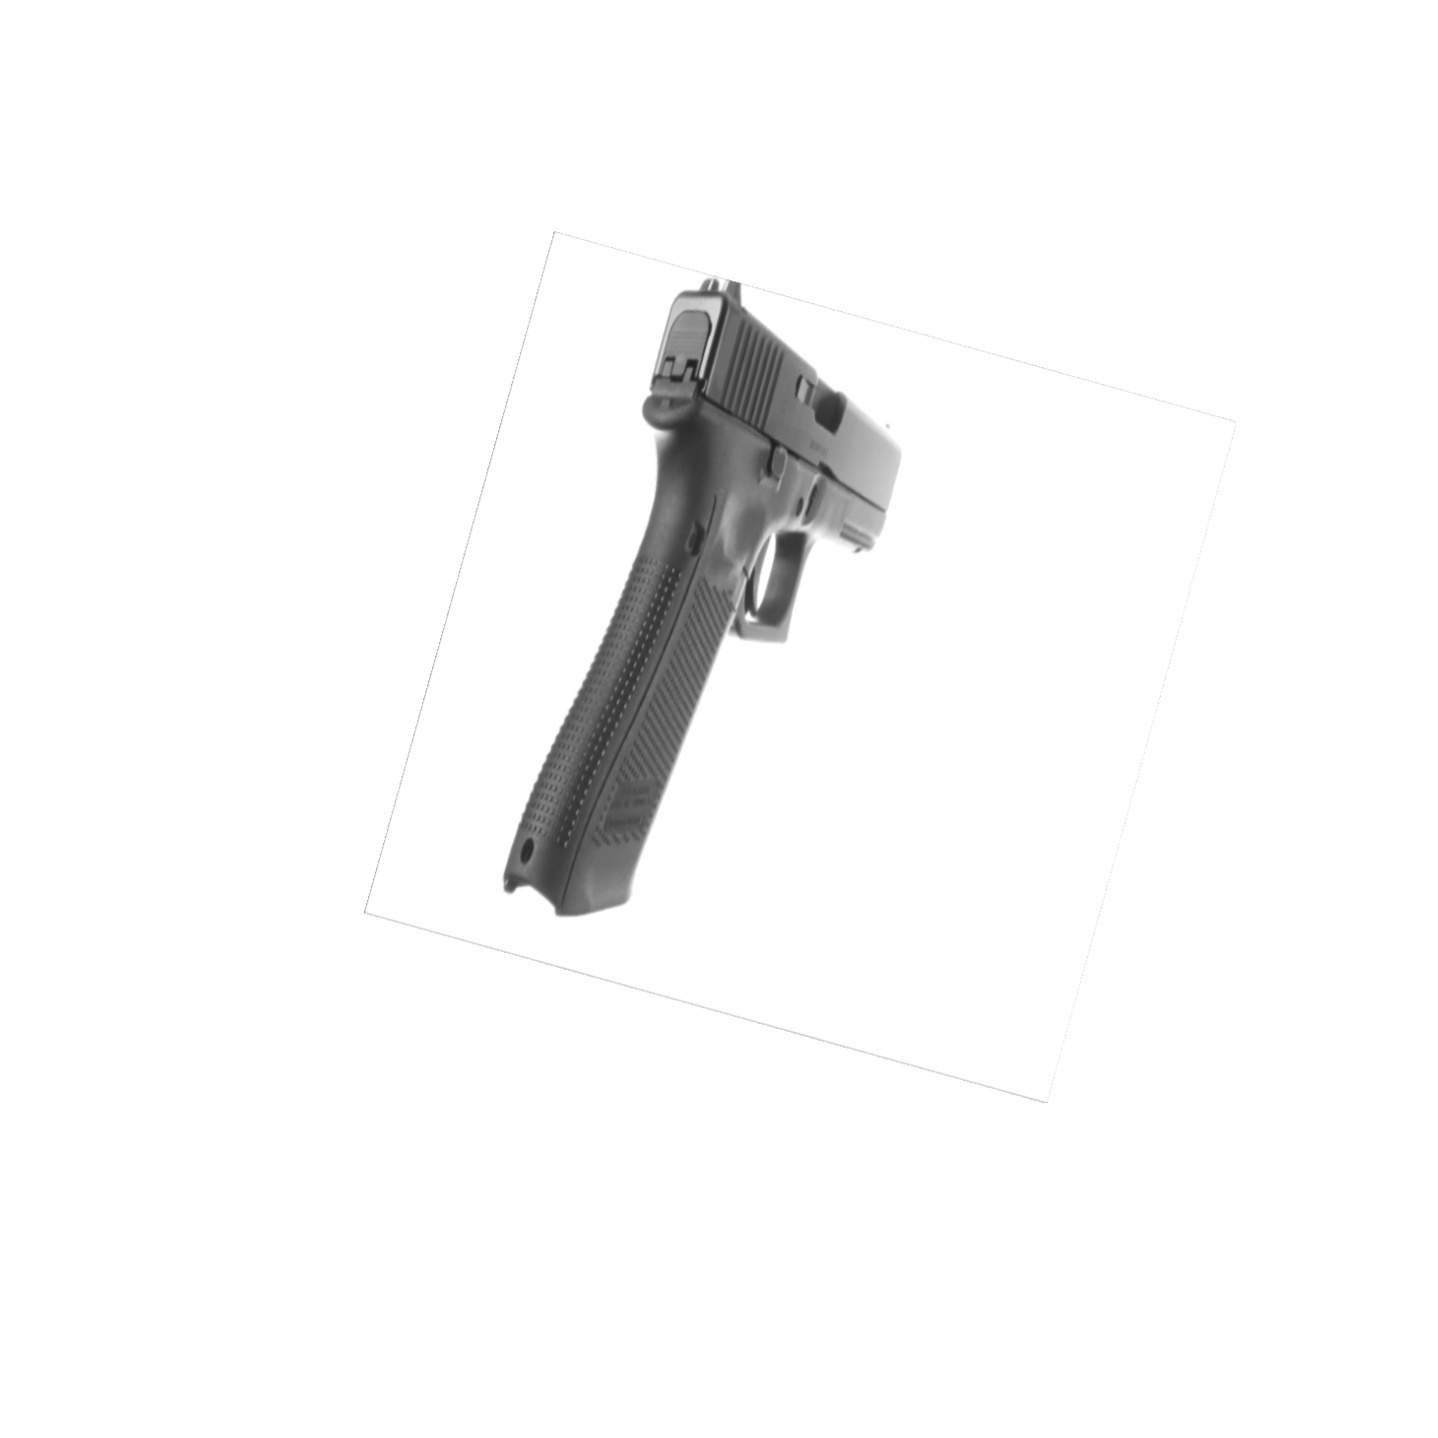gun: (489, 266, 924, 942)
